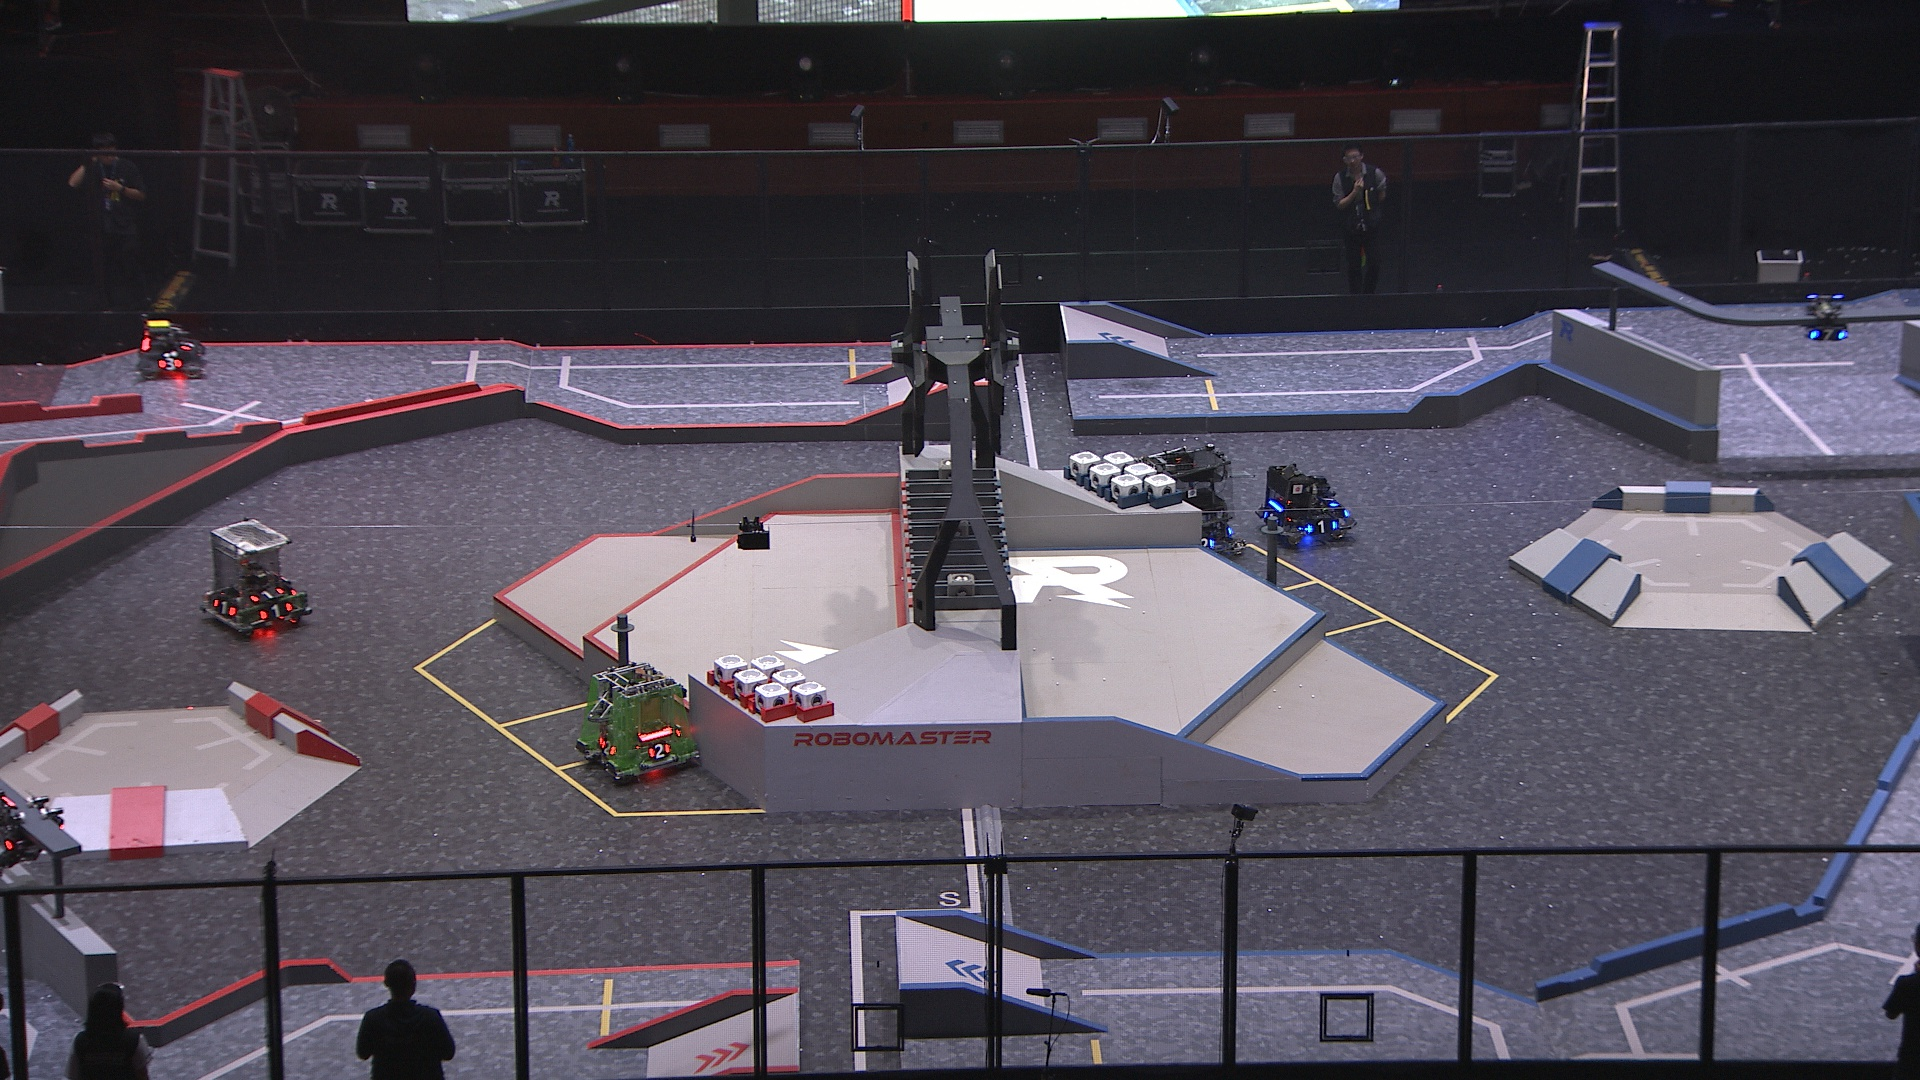armor: (248, 583, 286, 604), (258, 603, 291, 621), (1808, 328, 1849, 342), (595, 735, 618, 757), (1305, 520, 1338, 535), (210, 597, 237, 616), (646, 742, 671, 760), (157, 356, 183, 371), (1319, 493, 1342, 509), (1199, 534, 1216, 551), (177, 335, 196, 349)
car: (571, 659, 702, 785), (1126, 439, 1247, 560), (196, 514, 311, 638), (1255, 460, 1361, 549), (136, 315, 210, 380)
watcher: (1801, 291, 1851, 344)
